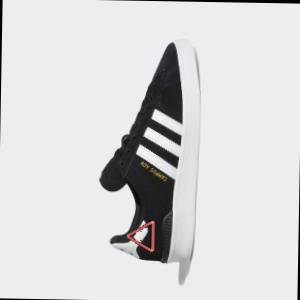triangle: (125, 217, 158, 256)
